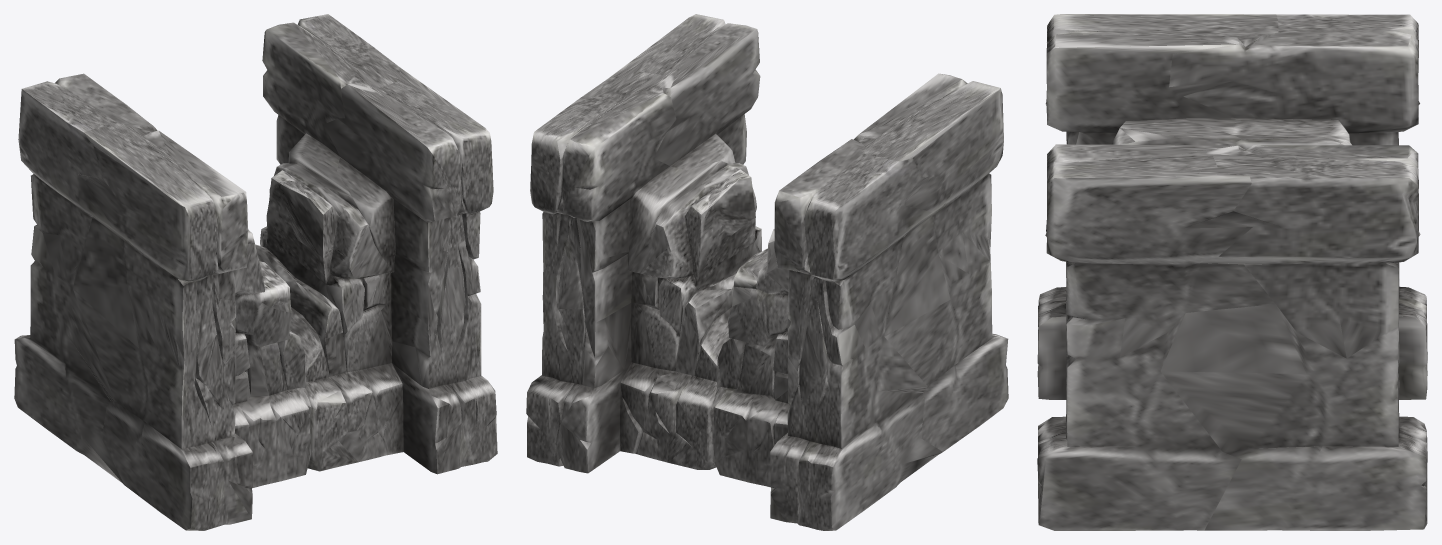
File: crown-balanced.glb
3 views of the same model, side by side, from view 1: azimuth 30°, elevation 25°; view 2: azimuth 150°, elevation 25°; view 3: azimuth 270°, elevation 25° (orthographic). The views are drawn at different scales.
Parts seen in each view (by area): view 1: crown-balanced; view 2: crown-balanced; view 3: crown-balanced.
Boxes of the visible parts, bbox=[...] form: crown-balanced: bbox=[14, 14, 497, 530]; crown-balanced: bbox=[526, 14, 1008, 530]; crown-balanced: bbox=[1037, 14, 1427, 530].
Size of the model in its own units: 1 by 1 by 1.
1 material, 1 textured.
